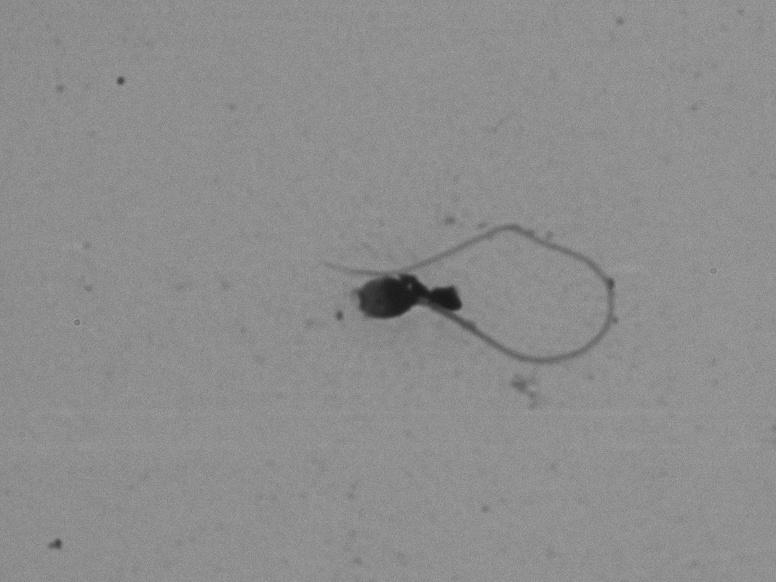Abnormal: (285, 181, 653, 387)
